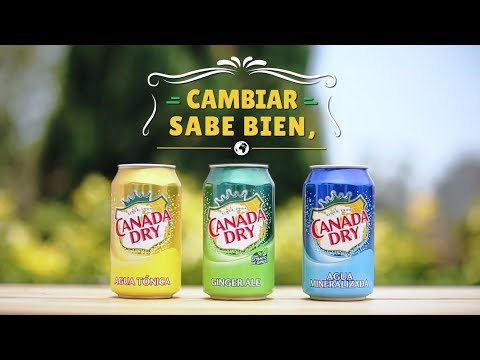Lata: (199, 161, 278, 304)
